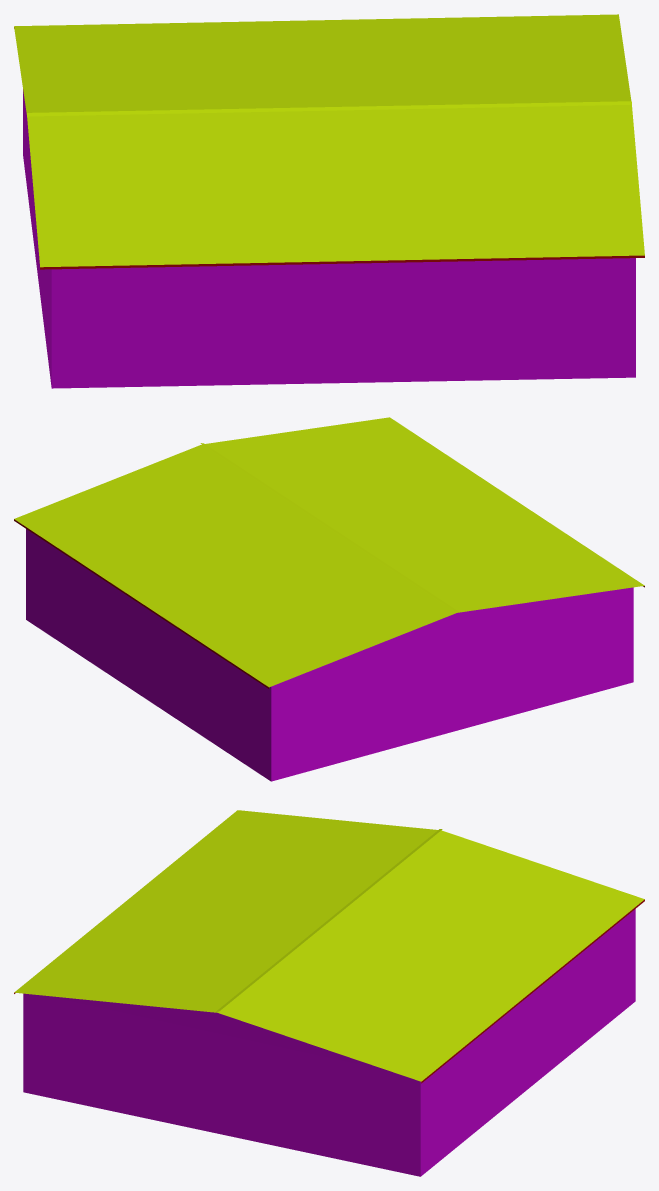
The model's file is scl_131.glb.
The picture shows the model from 3 angles, top to bottom: view 1: azimuth 30°, elevation 25°; view 2: azimuth 150°, elevation 25°; view 3: azimuth 270°, elevation 25°; orthographic projection. The views are drawn at different scales.
Visible parts, largest first — view 1: scl_131; view 2: scl_131; view 3: scl_131.
Part boxes in pixels (left/top/right/bottom): scl_131: left=14, top=14, right=644, bottom=388; scl_131: left=14, top=417, right=644, bottom=781; scl_131: left=14, top=810, right=644, bottom=1176.
Bounding box in the file's own units: 37 × 8.07 × 36.31.
